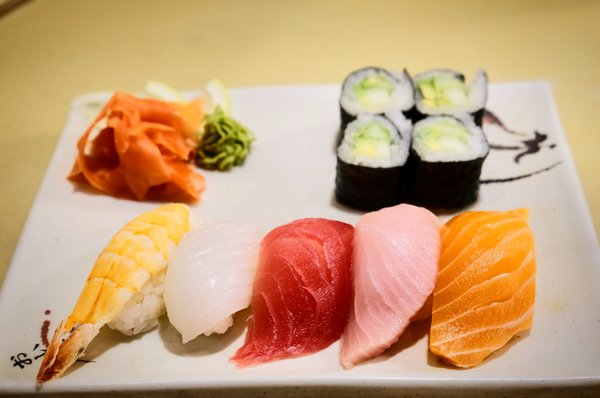soup: (428, 207, 538, 369)
